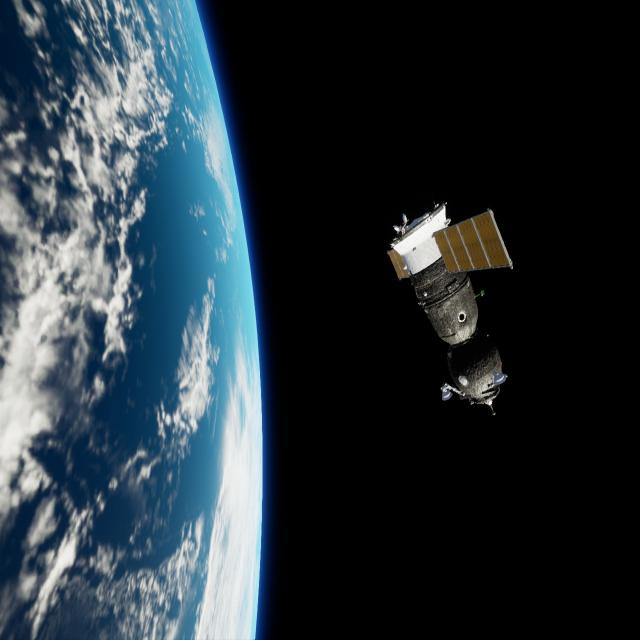Satellites revolving around earth: (1, 1, 264, 638), (385, 199, 515, 417)
